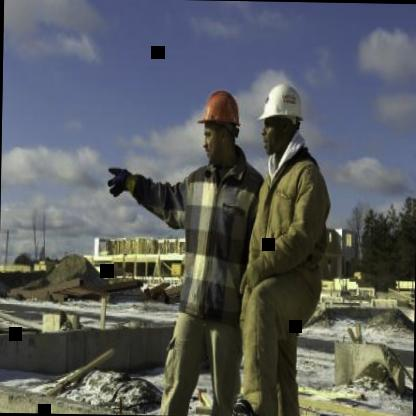helmet: (192, 82, 246, 170), (256, 76, 304, 160)
